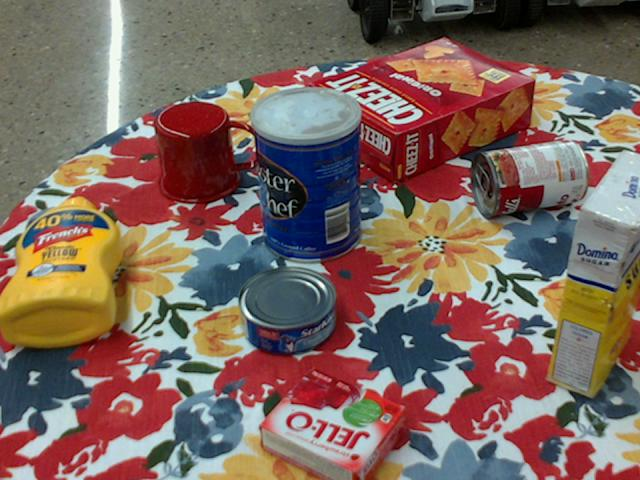cracker_box: (311, 40, 537, 184)
gelatin_box: (261, 370, 411, 479)
master_chef_can: (250, 85, 362, 263)
mug: (154, 101, 261, 204)
mustard_bottle: (0, 196, 122, 346)
sugar_box: (549, 149, 639, 399)
tomato_soup_can: (472, 138, 590, 217)
tuna_fish_can: (238, 267, 336, 356)
